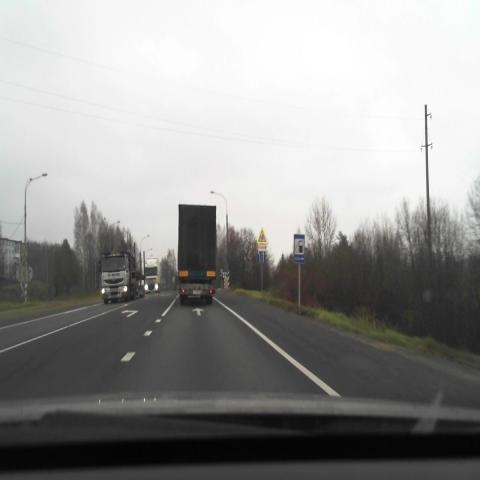1_23: (256, 226, 268, 243)
5_15_2_2: (256, 251, 266, 262)
7_3: (294, 234, 304, 263)
